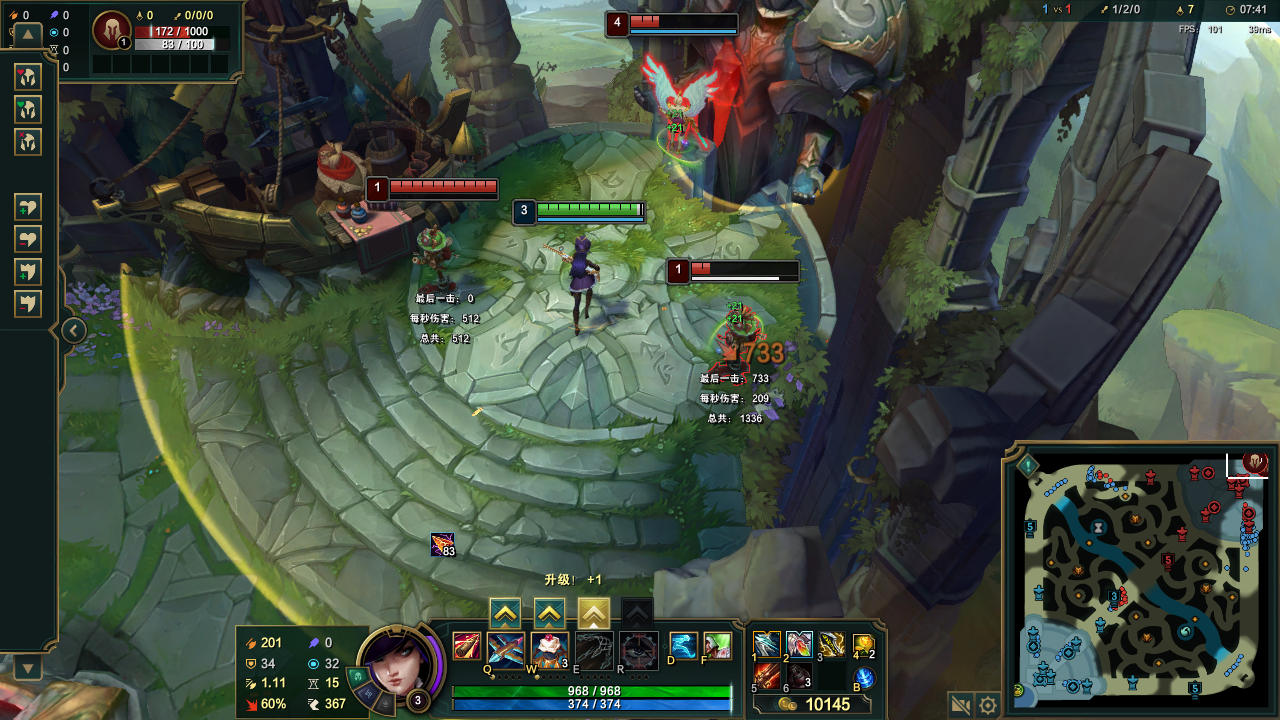DFYX: (384, 176, 498, 194), (693, 262, 802, 277), (629, 14, 739, 28)
